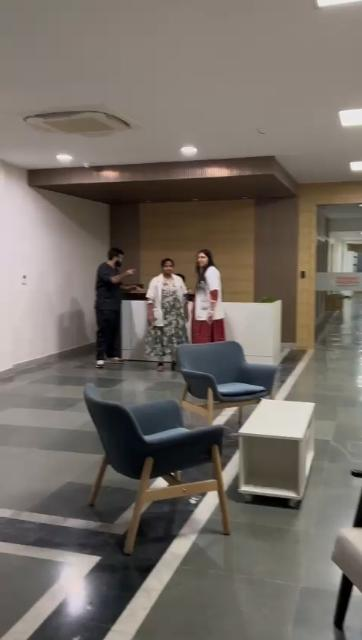floor: (7, 540, 329, 640), (1, 380, 73, 536), (326, 338, 362, 448)
moving-obj: (84, 240, 138, 362), (182, 245, 232, 362), (136, 244, 185, 362)
object: (73, 388, 235, 536), (214, 390, 326, 514), (166, 333, 282, 417), (328, 462, 361, 640)
wall: (33, 179, 296, 241), (23, 192, 71, 350), (0, 177, 28, 367), (228, 251, 308, 295), (69, 235, 95, 342), (302, 192, 314, 348), (127, 240, 161, 266), (315, 187, 362, 205), (215, 242, 243, 264), (160, 242, 194, 256)
